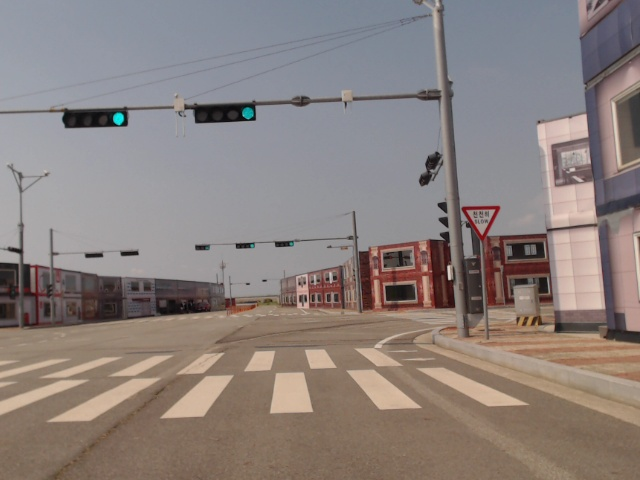straight_green_4: (62, 110, 129, 128), (195, 103, 257, 121), (234, 243, 257, 249), (278, 241, 294, 246)
